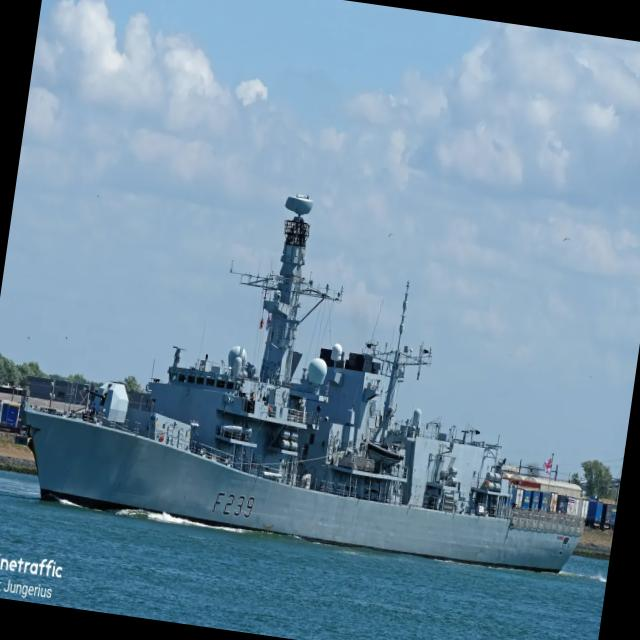Military: (23, 195, 582, 572)
